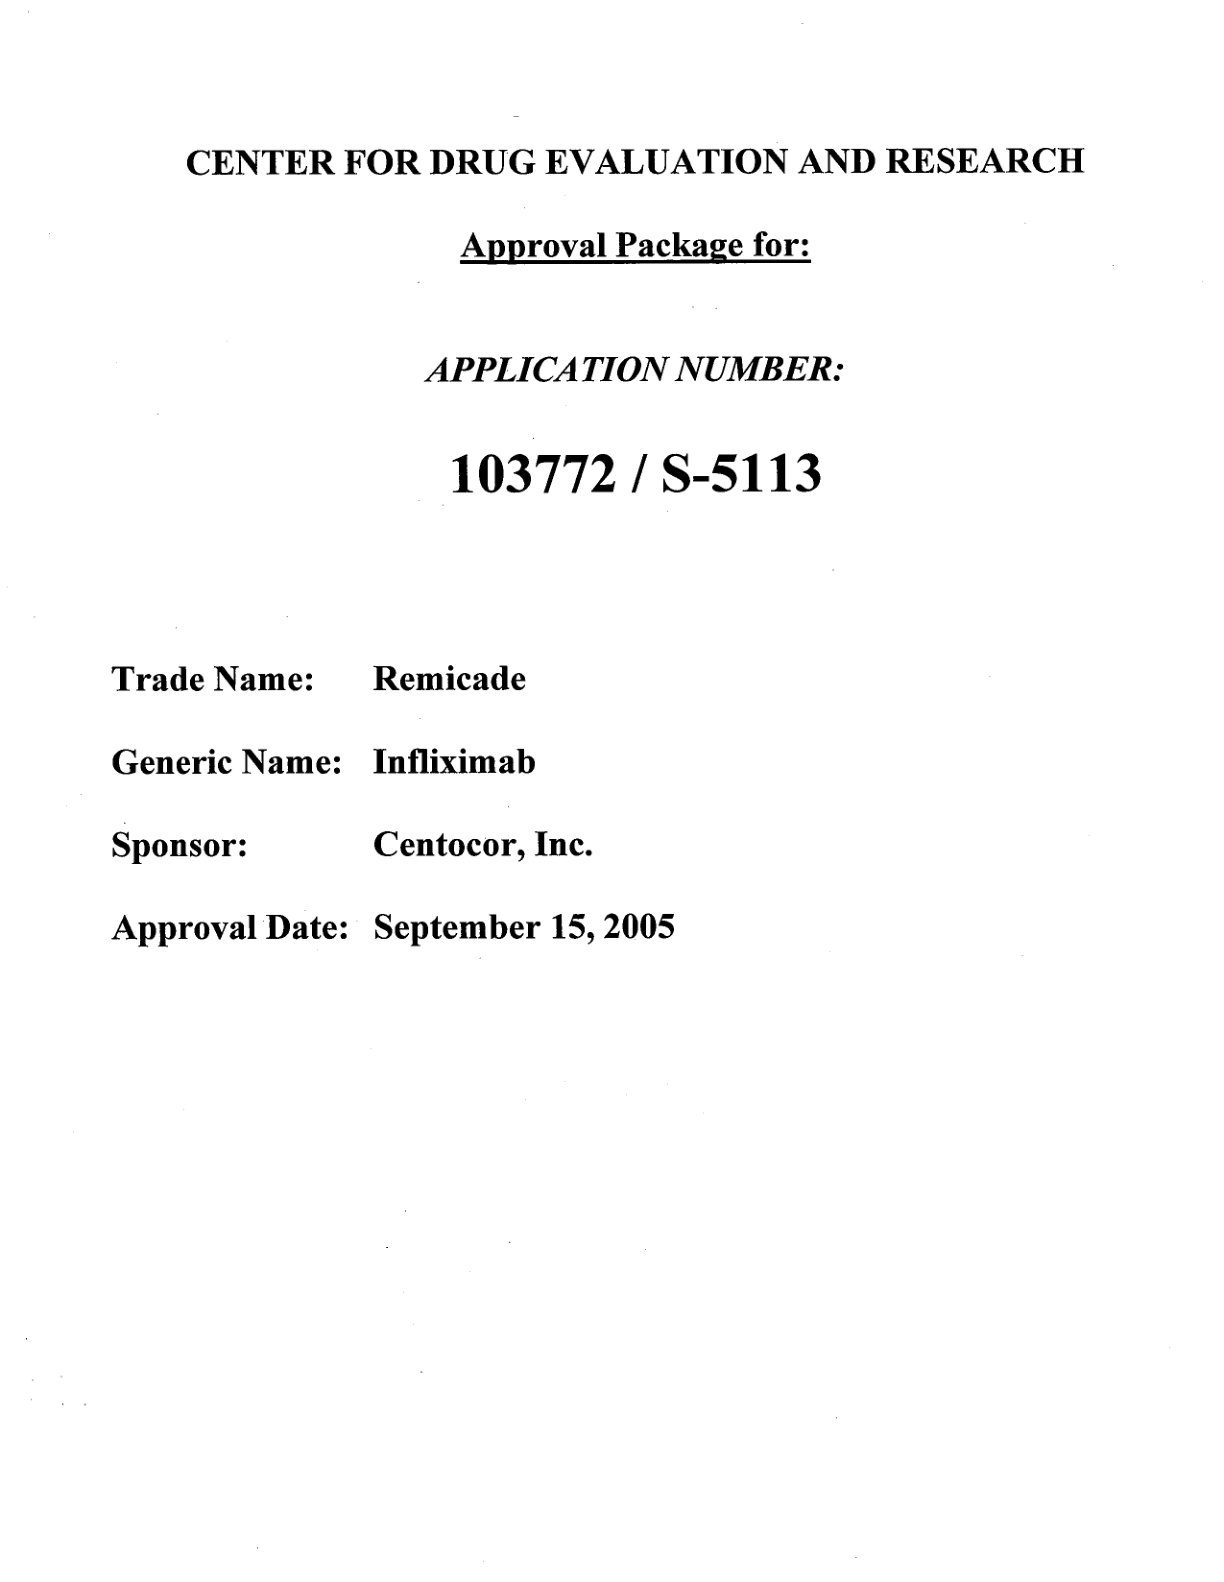nolines: (110, 663, 678, 950)
